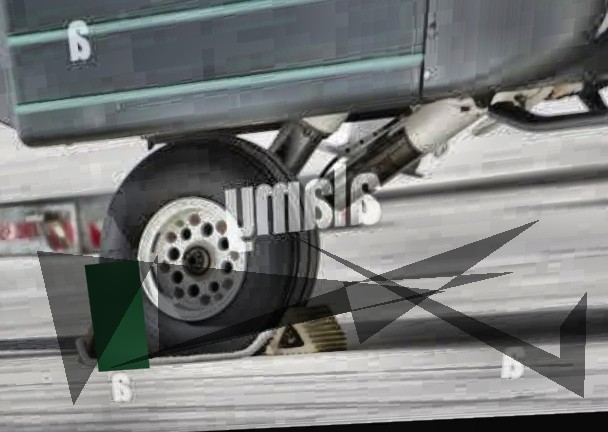chock: (265, 302, 349, 355), (70, 315, 151, 368)
wheel: (87, 119, 320, 358)
